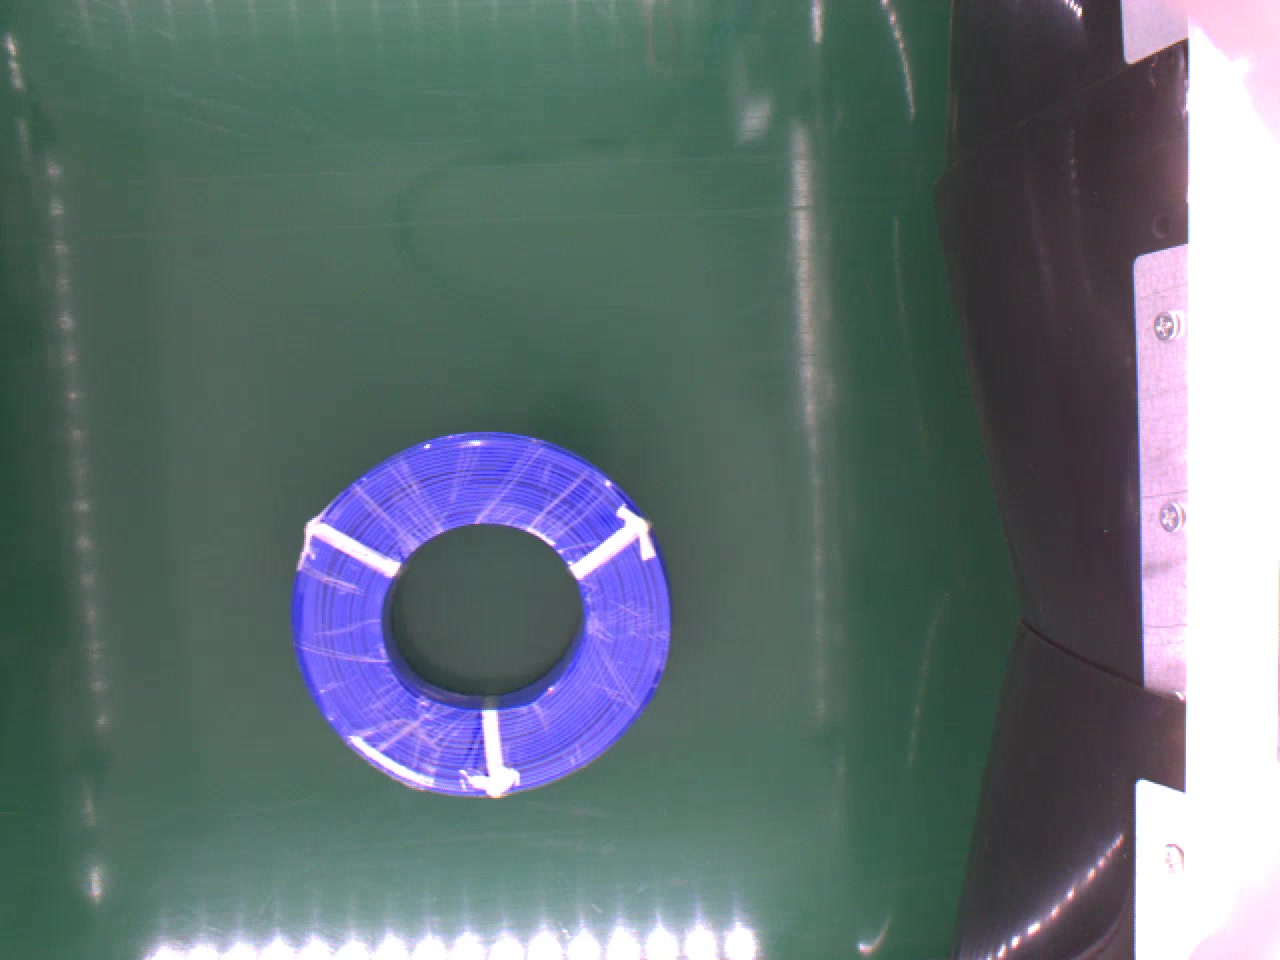blue: (288, 425, 675, 796)
